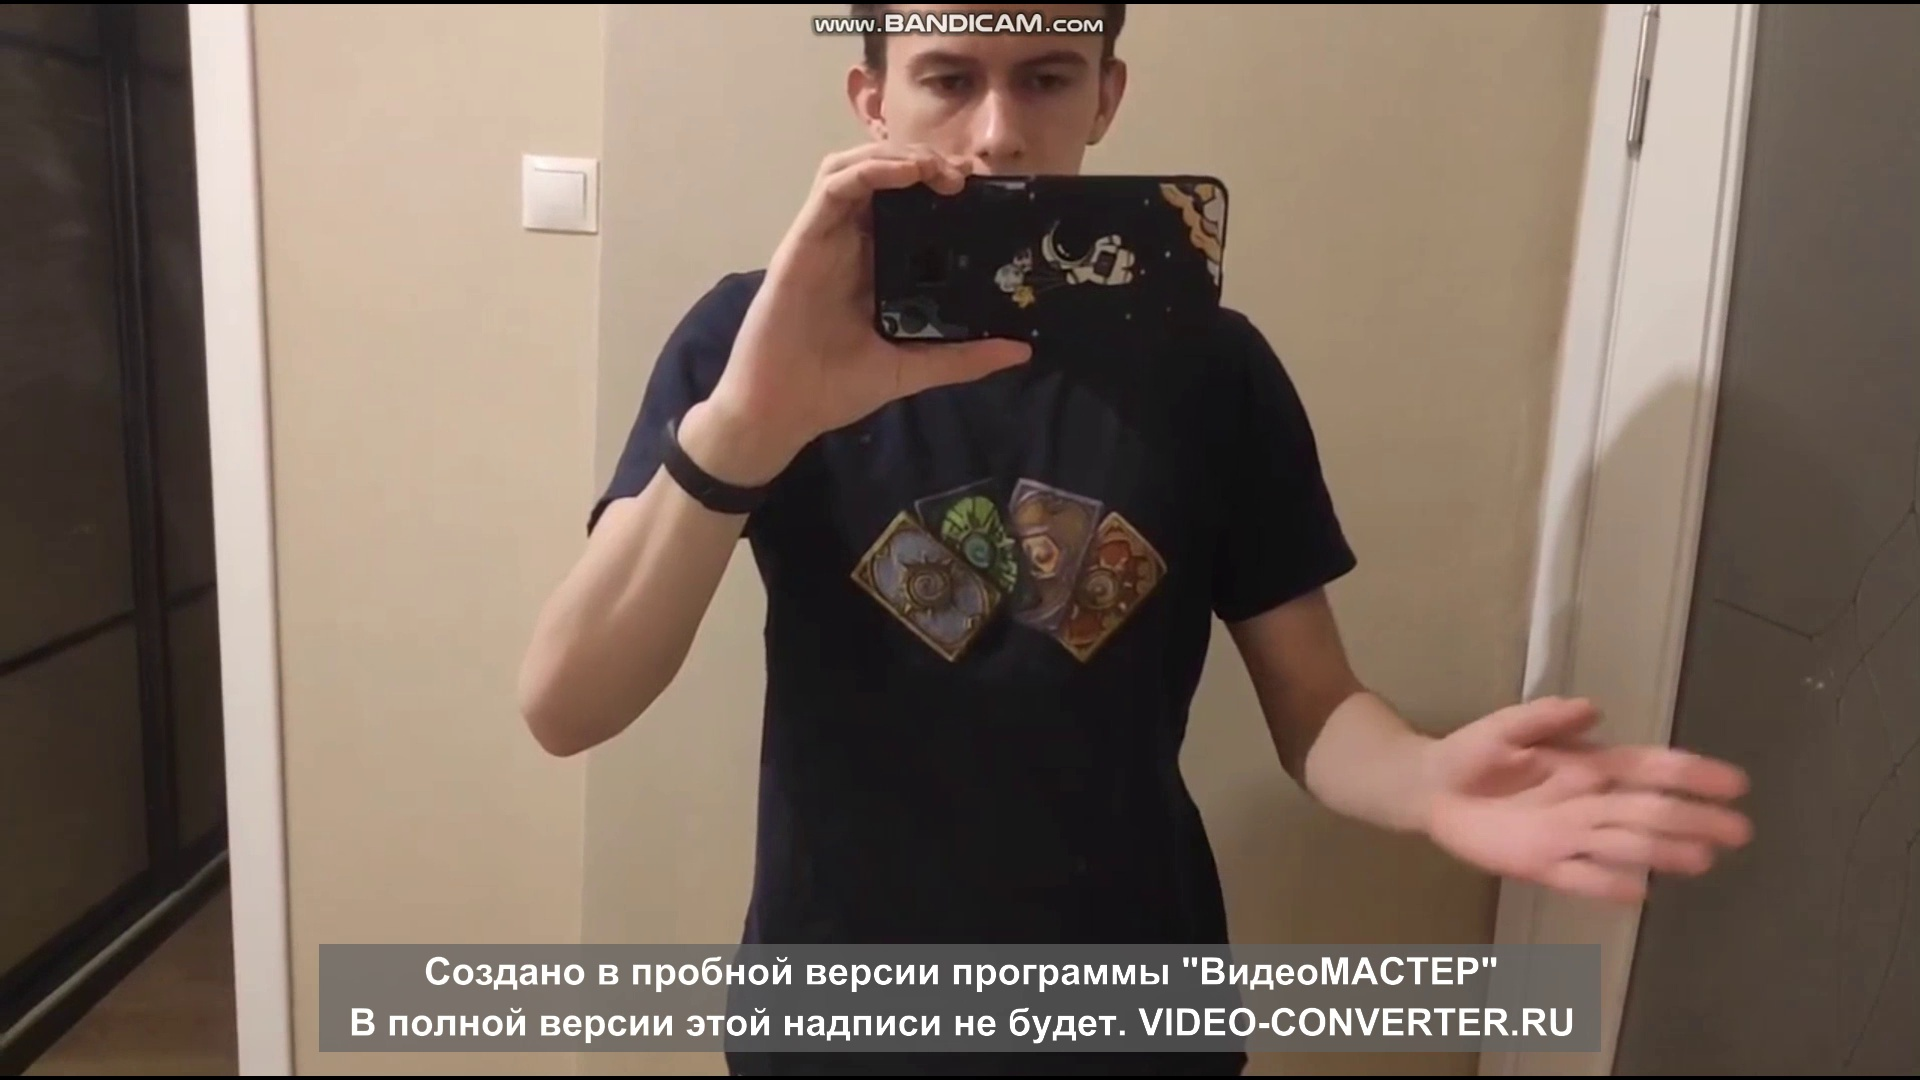Ладонь: (1437, 692, 1754, 905)
